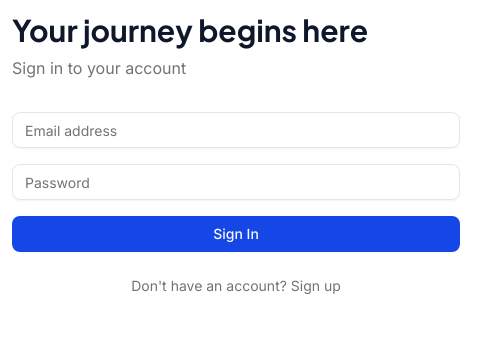
Test: LoginPage › shows error for 403 (email unverified)
In the field with placeholder "Email address": (236, 130) [12,112,460,148], type "unverified@example.com"
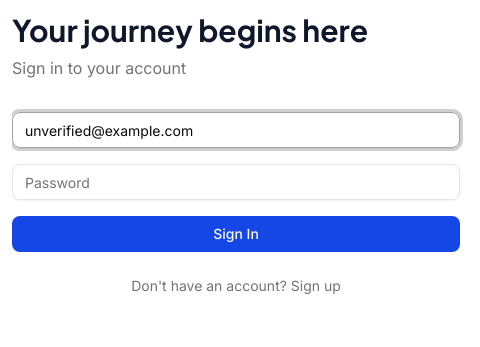
In the password field with placeholder "Password": (236, 182) [12,164,460,200], type "any"
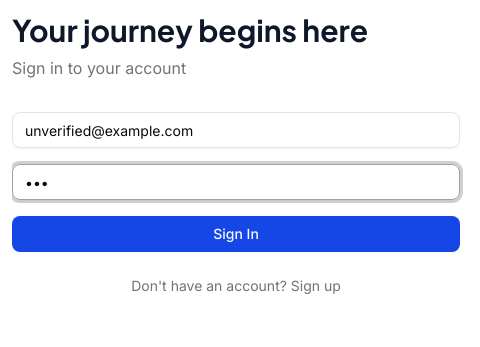
Click the button "Sign In": (236, 234) [12,216,460,252]
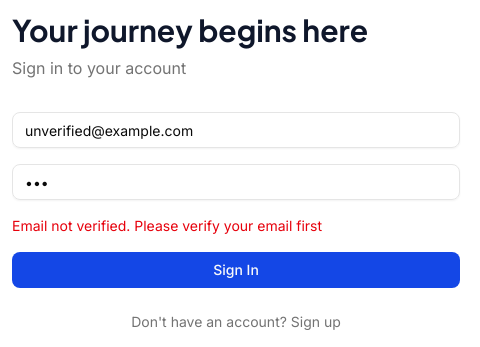
Now the message shows "Email not verified", box [12,217,322,234]
